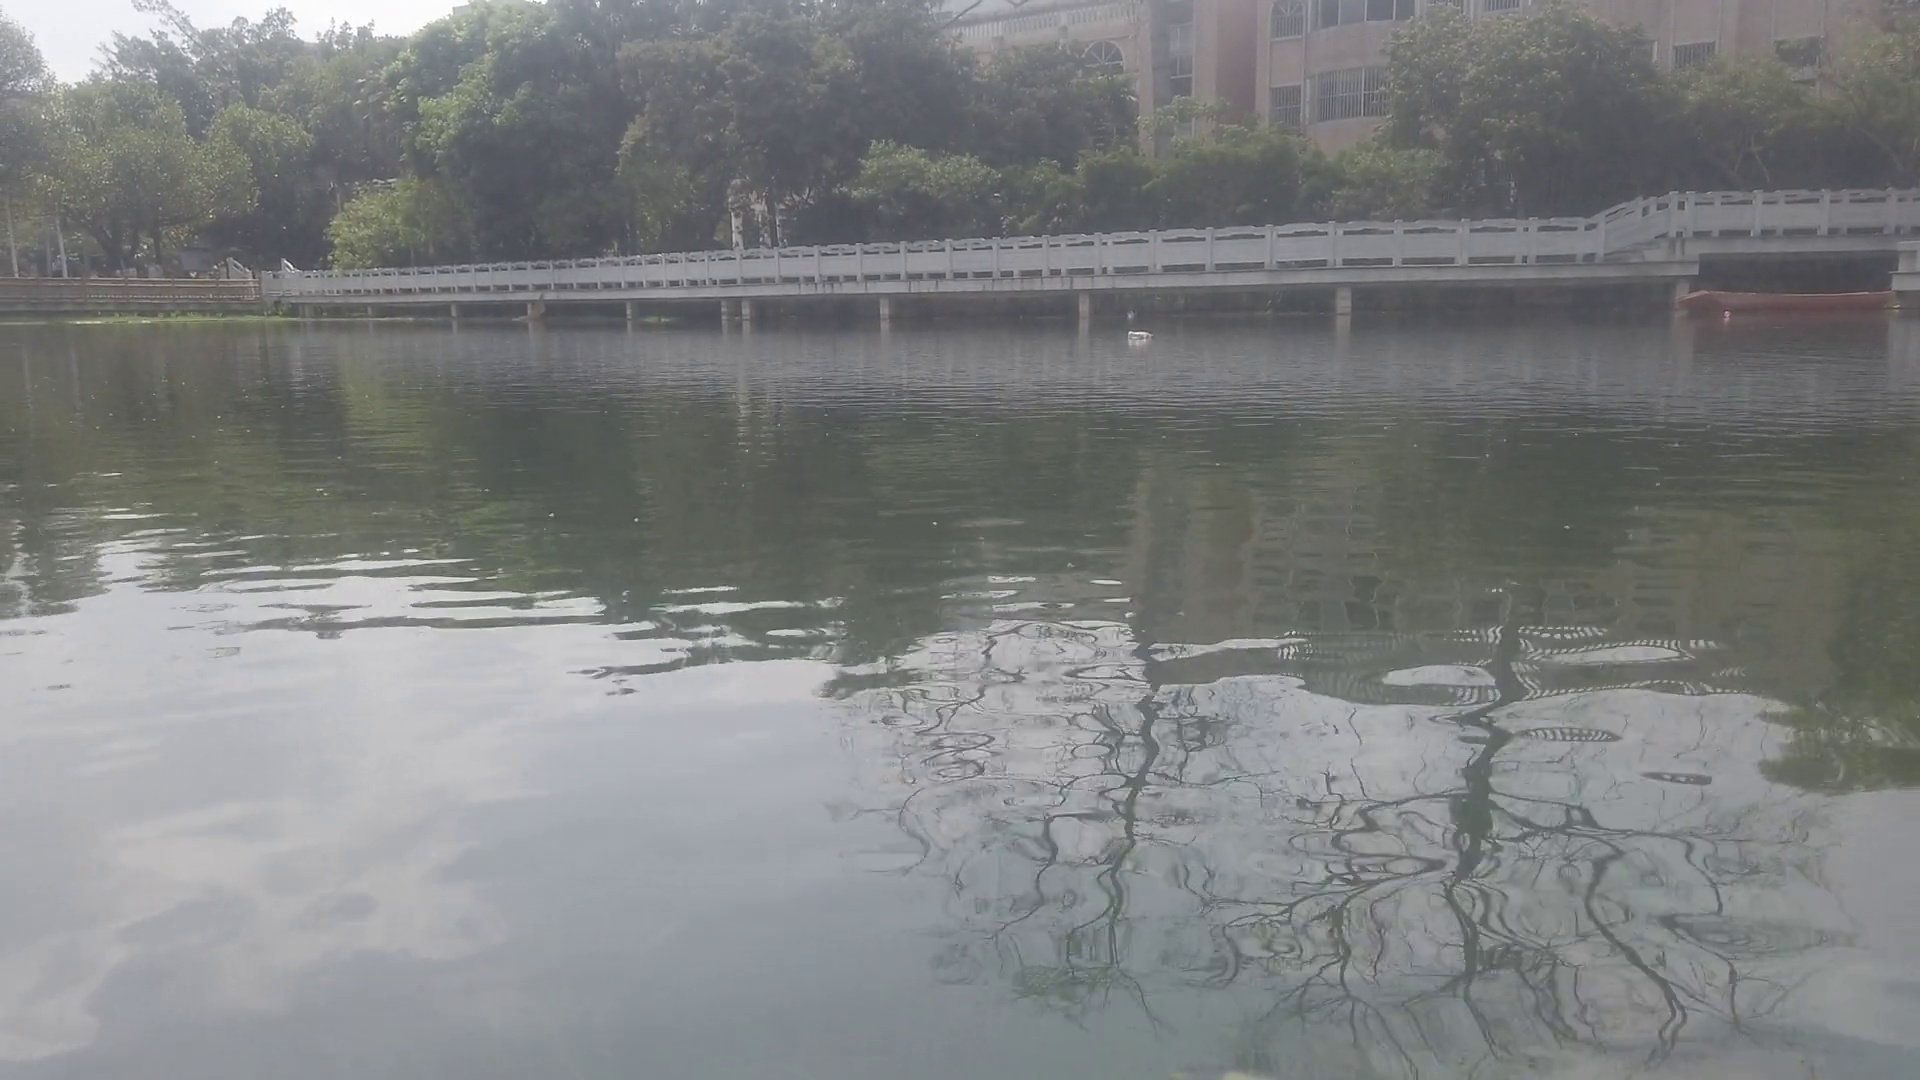bottle: (1127, 328, 1155, 344), (1720, 306, 1737, 320)
